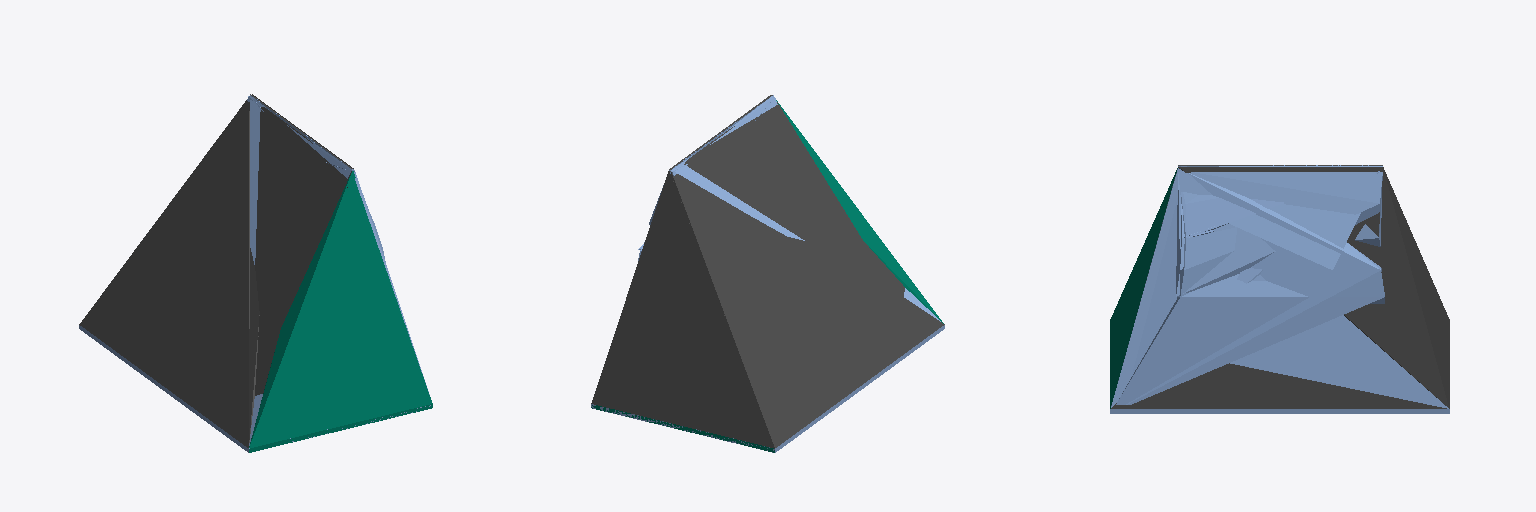
File: watervilla_maya.obj
The picture shows the model from 3 angles: view 1: azimuth 30°, elevation 25°; view 2: azimuth 150°, elevation 25°; view 3: azimuth 270°, elevation 25°; orthographic projection.
Parts seen in each view (by area): view 1: wtr_pillar23, wtr_window32, wtr_pillar51, wtr_window11, watervilla102, wtr_door00, wtr_house2; view 2: wtr_pillar23, wtr_pillar02, wtr_pillar51, wtr_window11, watervilla102, wtr_door00, wtr_house2; view 3: wtr_house1, wtr_pillar02, wtr_house2, watervilla102, wtr_pillar23, wtr_window32, watervilla82, wtr_door00.
Part boxes in pixels (x1,y1,x2,y2): wtr_pillar23: (79, 100, 351, 447); wtr_window32: (249, 173, 432, 447); wtr_pillar51: (249, 102, 351, 394); wtr_window11: (249, 171, 432, 452); watervilla102: (250, 95, 354, 264); wtr_door00: (79, 325, 430, 452); wtr_house2: (248, 96, 385, 445); wtr_pillar23: (671, 102, 944, 447); wtr_pillar02: (591, 95, 774, 448); wtr_pillar51: (676, 105, 904, 296); wtr_window11: (605, 100, 943, 452); watervilla102: (669, 118, 804, 240); wtr_door00: (591, 325, 944, 452); wtr_house2: (605, 96, 940, 450); wtr_house1: (1116, 166, 1384, 404); wtr_pillar02: (1178, 165, 1449, 408); wtr_house2: (1176, 166, 1384, 296); watervilla102: (1187, 166, 1448, 408); wtr_pillar23: (1111, 167, 1446, 408); wtr_window32: (1110, 168, 1177, 408); watervilla82: (1111, 165, 1368, 407); wtr_door00: (1110, 409, 1449, 413).
Bounding box in the file's own units: 497 × 583 × 794.